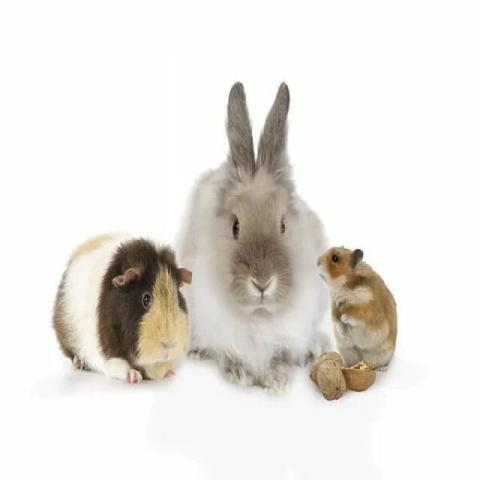small_animal: (174, 79, 347, 398), (50, 230, 193, 385), (315, 240, 400, 375)
